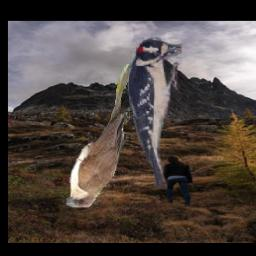Cuckoo: (64, 63, 130, 208)
Woodpecker: (126, 36, 183, 189)
